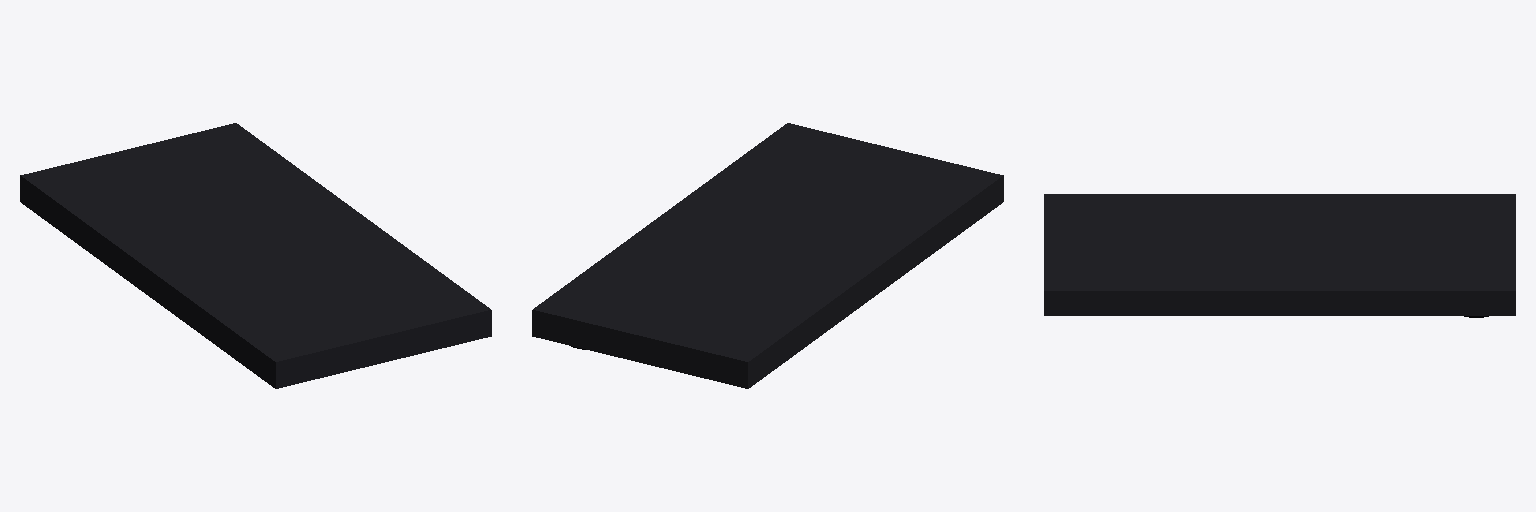
robot.urdf — iphone_13_mini:
<?xml version="1.0"?>
<!-- iPhone 13 mini: generated by imuninn from Apple's dimensional drawings (iphone-frames dataset). Frames: device = display centre on the front glass (x right, y top, z out of the screen); cam_*_optical = OpenCV axes. Geometry and mass are approximate. -->
<robot name="iphone_13_mini">
  <material name="iphone_body">
    <color rgba="0.15 0.15 0.17 1" />
  </material>
  <material name="iphone_lens">
    <color rgba="0.05 0.05 0.06 1" />
  </material>
  <link name="device">
    <visual name="body">
      <origin xyz="-7.10542736e-18 0 -0.003825" rpy="0 0 0" />
      <geometry>
        <box size="0.06421 0.1315 0.00765" />
      </geometry>
      <material name="iphone_body" />
    </visual>
    <collision name="body">
      <origin xyz="-7.10542736e-18 0 -0.003825" rpy="0 0 0" />
      <geometry>
        <box size="0.06421 0.1315 0.00765" />
      </geometry>
    </collision>
    <visual name="lens_ultra_wide">
      <origin xyz="0.021255 0.0549 -0.008905" rpy="0 0 0" />
      <geometry>
        <cylinder radius="0.006845" length="0.00251" />
      </geometry>
      <material name="iphone_lens" />
    </visual>
    <visual name="lens_main">
      <origin xyz="0.008895 0.04254 -0.008905" rpy="0 0 0" />
      <geometry>
        <cylinder radius="0.006845" length="0.00251" />
      </geometry>
      <material name="iphone_lens" />
    </visual>
    <inertial>
      <origin xyz="-7.10542736e-18 0 -0.003825" rpy="0 0 0" />
      <mass value="0.149" />
      <inertia ixx="0.000215439" ixy="0" ixz="0" iyy="5.19196e-05" iyz="0" izz="0.000265905" />
    </inertial>
  </link>
  <link name="magsafe" />
  <joint name="device_to_magsafe" type="fixed">
    <parent link="device" />
    <child link="magsafe" />
    <origin xyz="-5e-06 1e-05 -0.00765" rpy="3.14159265 0 3.14159265" />
  </joint>
  <link name="cam_ultra_wide_optical" />
  <joint name="device_to_cam_ultra_wide_optical" type="fixed">
    <parent link="device" />
    <child link="cam_ultra_wide_optical" />
    <origin xyz="0.021255 0.0549 -0.01016" rpy="3.14159265 0 -1.57079633" />
  </joint>
  <link name="cam_main_optical" />
  <joint name="device_to_cam_main_optical" type="fixed">
    <parent link="device" />
    <child link="cam_main_optical" />
    <origin xyz="0.008895 0.04254 -0.01016" rpy="3.14159265 0 -1.57079633" />
  </joint>
  <link name="cam_front_optical" />
  <joint name="device_to_cam_front_optical" type="fixed">
    <parent link="device" />
    <child link="cam_front_optical" />
    <origin xyz="5e-06 0.06016 0" rpy="0 0 1.57079633" />
  </joint>
  <link name="imu" />
  <joint name="device_to_imu" type="fixed">
    <parent link="device" />
    <child link="imu" />
    <origin xyz="0 0 0" rpy="0 0 0" />
  </joint>
</robot>

--- Facts derived from the render (not from the file) ---
Views: 3 orthographic renders of the robot side by side, from view 1: azimuth 30°, elevation 25°; view 2: azimuth 150°, elevation 25°; view 3: azimuth 270°, elevation 25°.
Robot: iphone_13_mini — 6 links, 5 joints (5 fixed); root link device; default pose: all joints at 0.
Visible links, largest first — view 1: device; view 2: device; view 3: device.
Link boxes in pixels (bbox=[...]): device: bbox=[20, 123, 491, 388]; device: bbox=[532, 123, 1003, 388]; device: bbox=[1044, 194, 1515, 317].
Bounding box of the posed robot: 0.0642 × 0.1315 × 0.0102 m (x, y, z).
Geometry: primitives only (box / cylinder / sphere), no mesh files.
